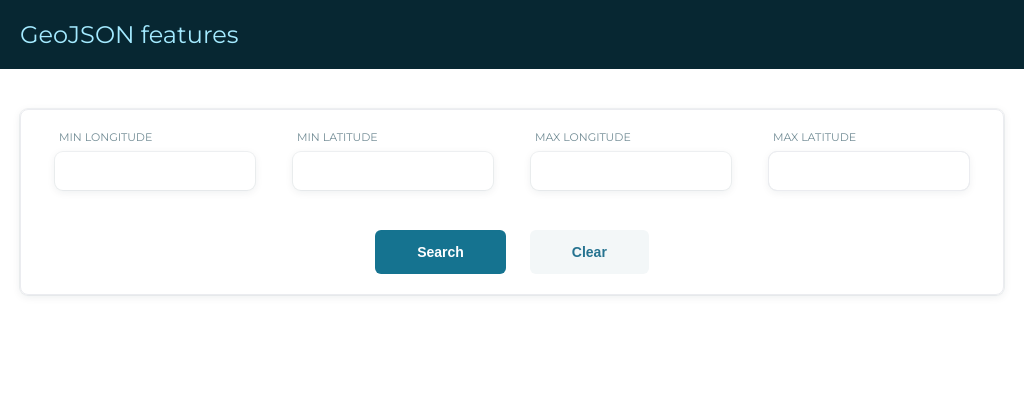
Test: error response from server when bbox is too large
Type "0" into the number field labelled "min longitude".
click(155, 171); type("0")  # box [55, 152, 255, 190]
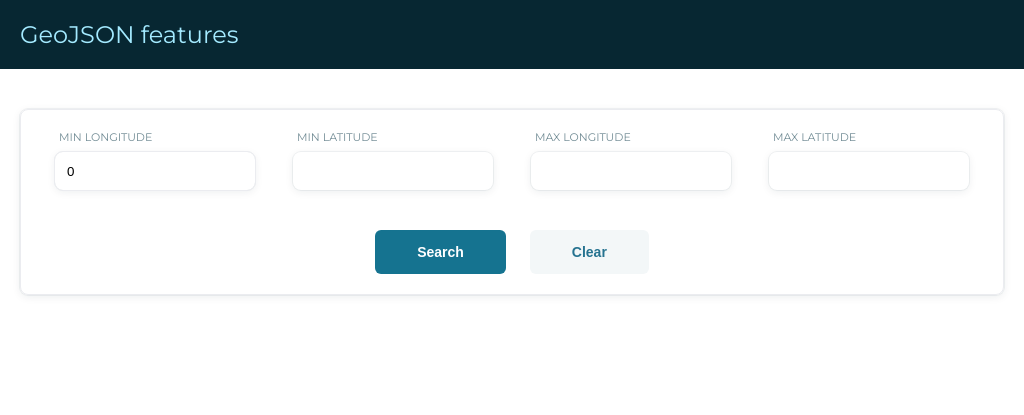
Type "0" into the number field labelled "min latitude".
click(393, 171); type("0")  # box [293, 152, 493, 190]
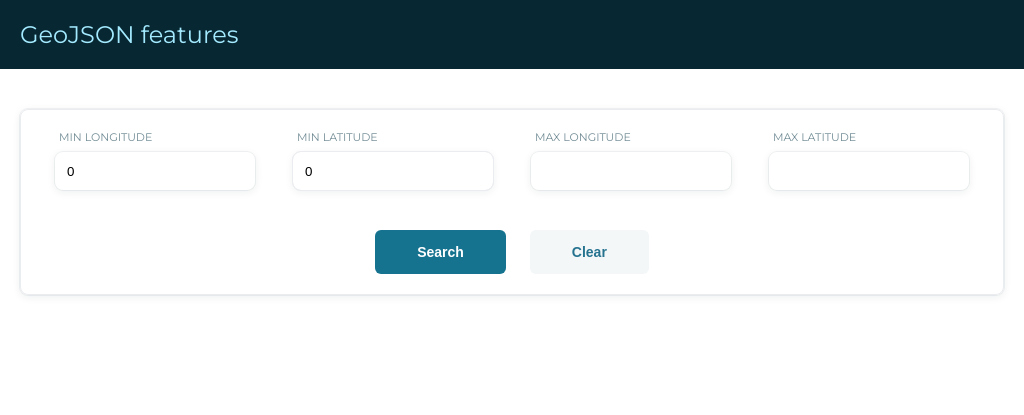
Type "1" into the number field labelled "max longitude".
click(631, 171); type("1")  # box [531, 152, 731, 190]
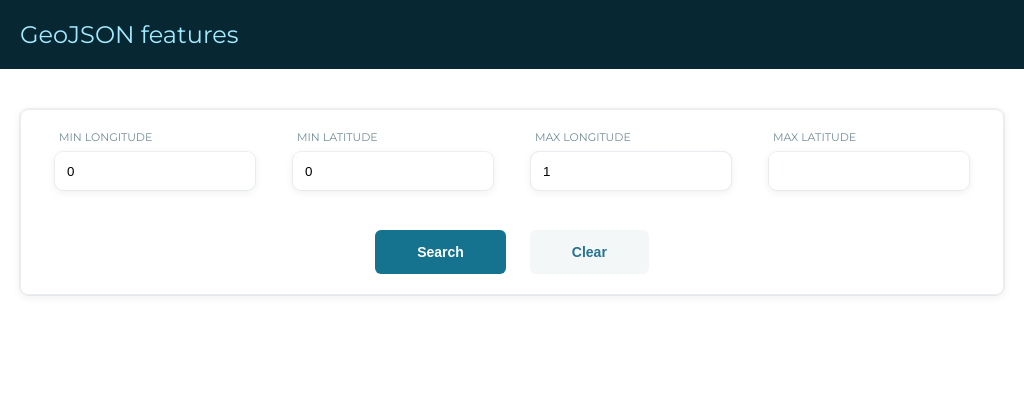
Type "1" into the number field labelled "max latitude".
click(869, 171); type("1")  # box [769, 152, 969, 190]
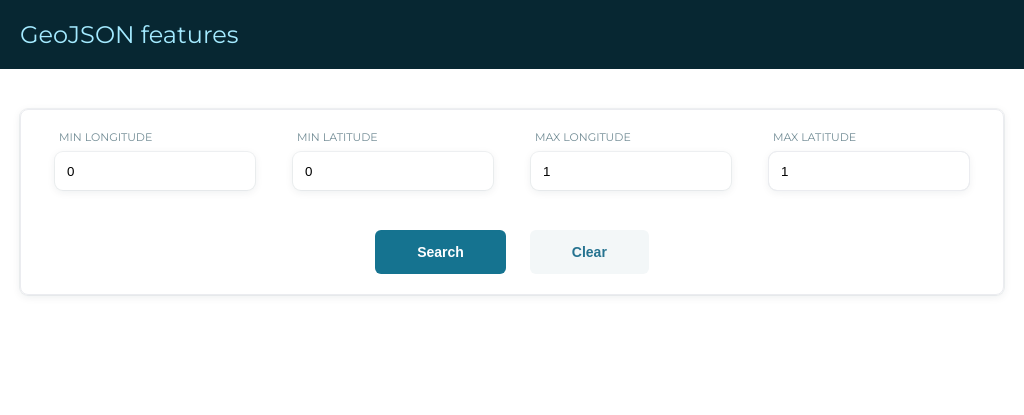
Click the button "Search".
click(440, 252)  # box [375, 230, 506, 274]
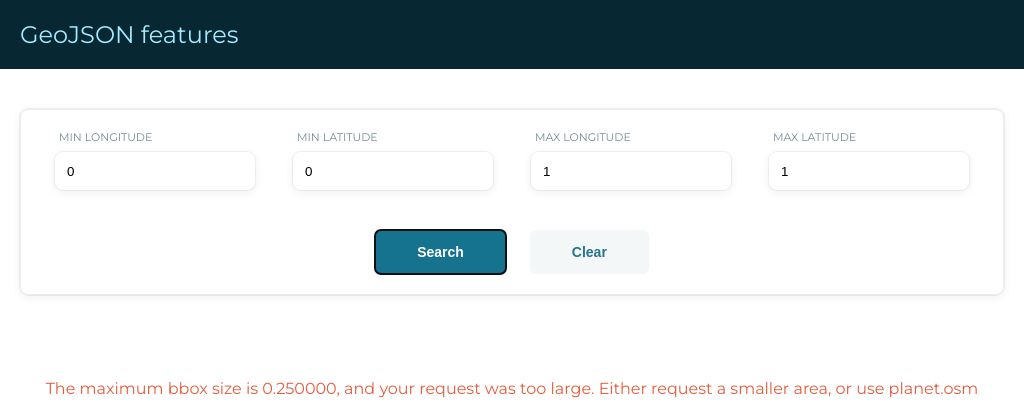
Now the message is shown, box [20, 379, 1004, 398]
Now the message shows "The maximum bbox size is 0.250000, and your request was too large. Either request a smaller area, or use planet.osm", box [46, 379, 978, 398]
